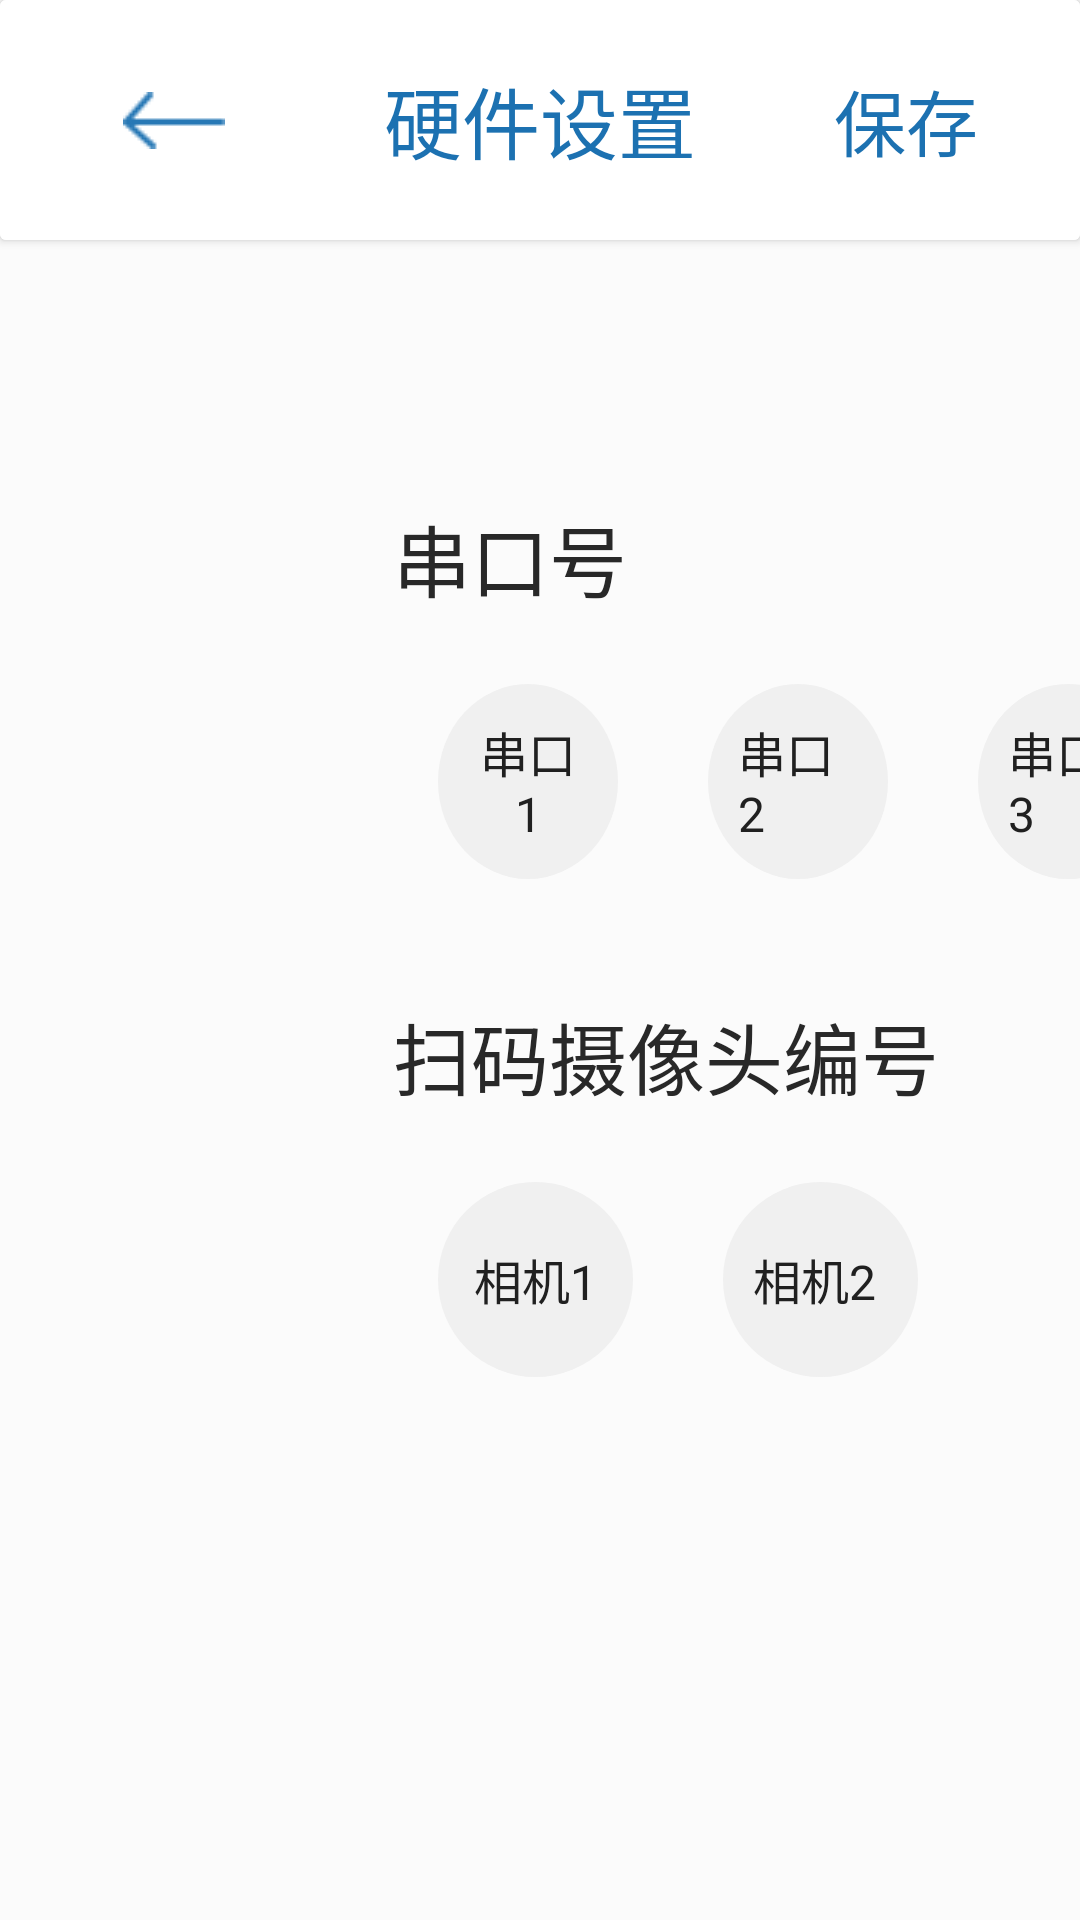

Icons on this 1080w x 1920h Android screen, each with its box as (left=x1, top=y1, right=x2, bottom=y2):
back style: (left=123, top=92, right=225, bottom=149)
